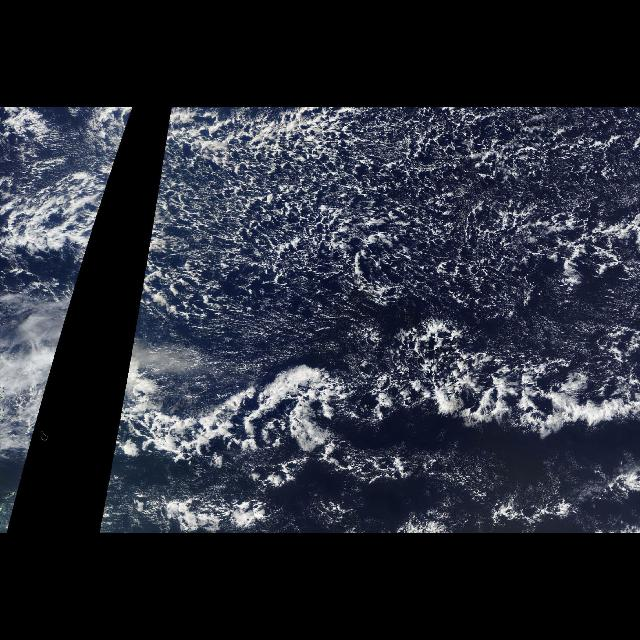Fish: (100, 322, 640, 532)
Gravel: (142, 108, 640, 338)
